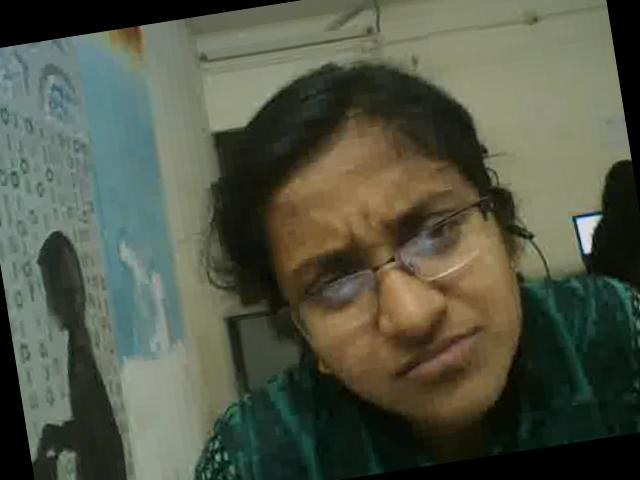bingung: (254, 129, 528, 439)
